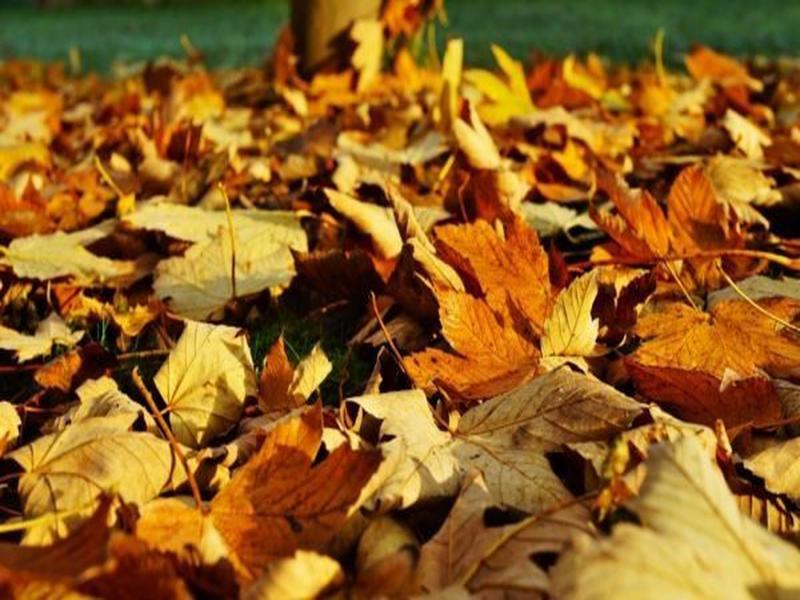leaf: (338, 363, 651, 521), (617, 294, 800, 444), (586, 151, 756, 276), (401, 275, 534, 394), (147, 315, 265, 444), (146, 225, 297, 323), (307, 175, 410, 264), (537, 263, 614, 358)
